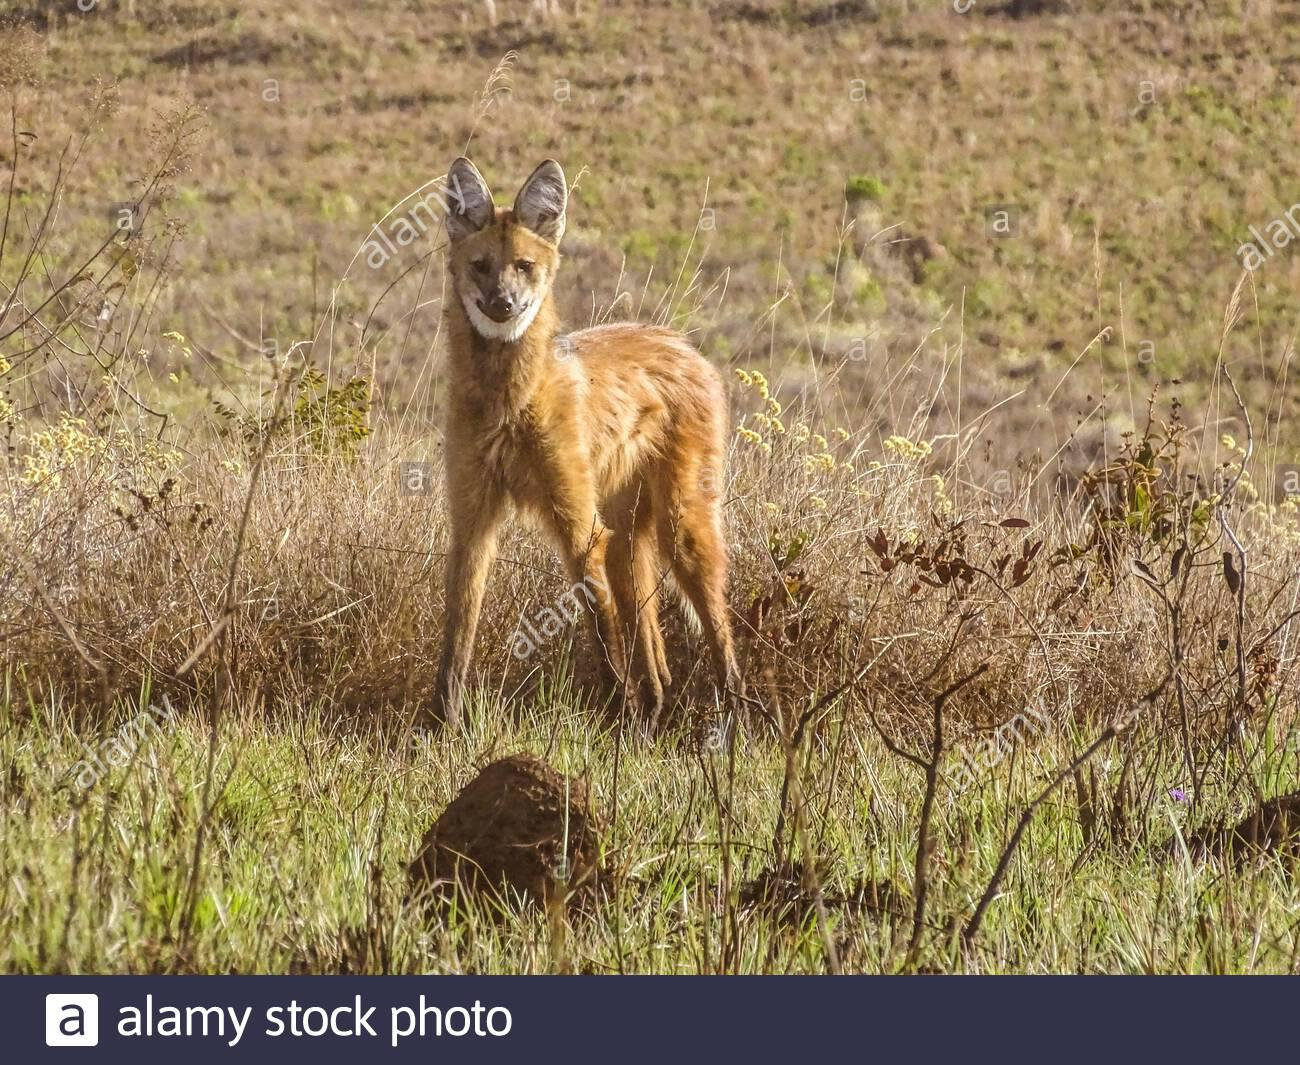LoboGuara: (405, 151, 757, 736)
